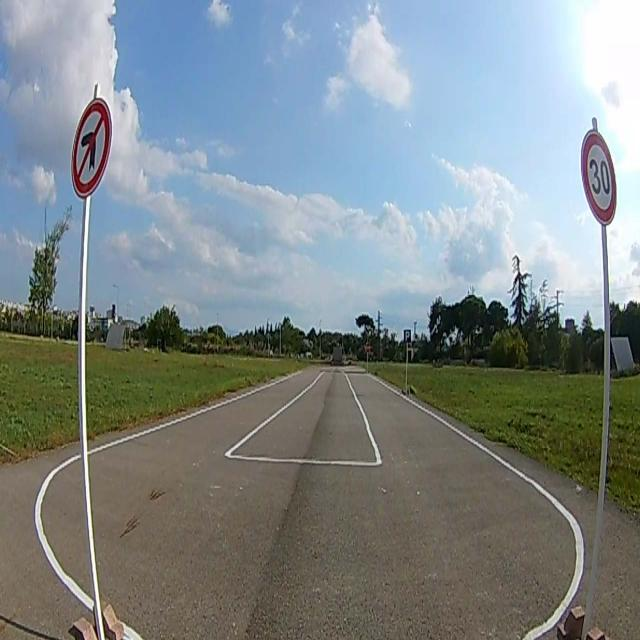30: (584, 131, 616, 222)
soladonulmez: (72, 100, 111, 199)
